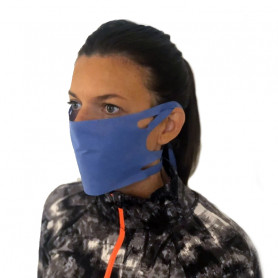barbijo: (64, 100, 183, 191)
